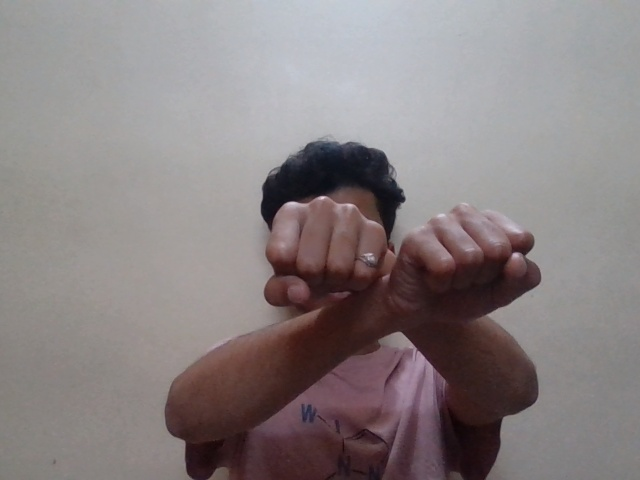work: (243, 190, 543, 326)
